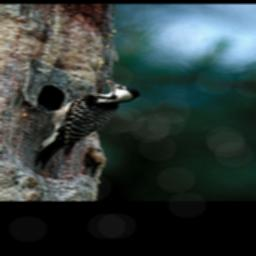Woodpecker: (35, 78, 142, 170)
